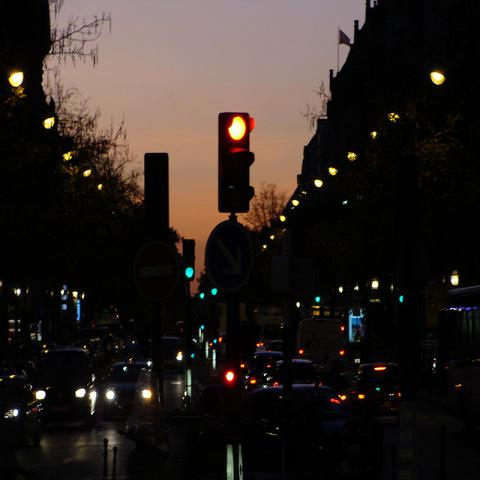car: (32, 347, 99, 429), (2, 367, 47, 443), (354, 360, 410, 420), (104, 361, 159, 420), (240, 383, 288, 446), (296, 319, 344, 373), (288, 359, 317, 396), (162, 373, 186, 410), (162, 336, 185, 372), (250, 351, 282, 372), (266, 341, 286, 358)
